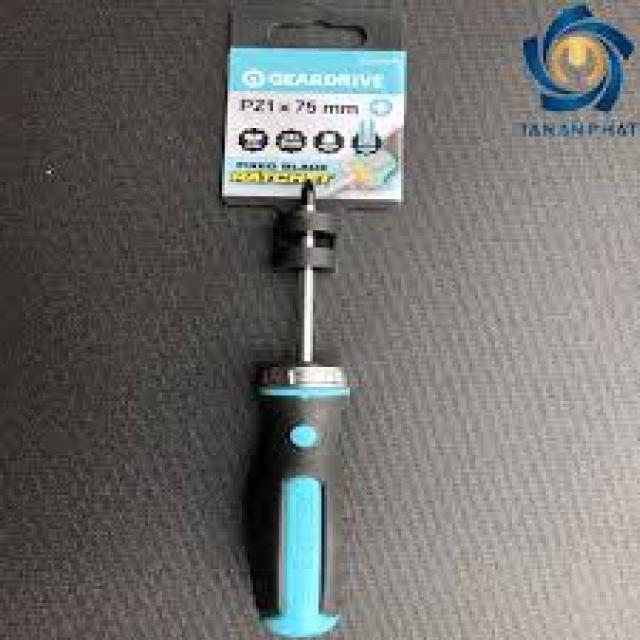screwdriver: (242, 173, 347, 640)
